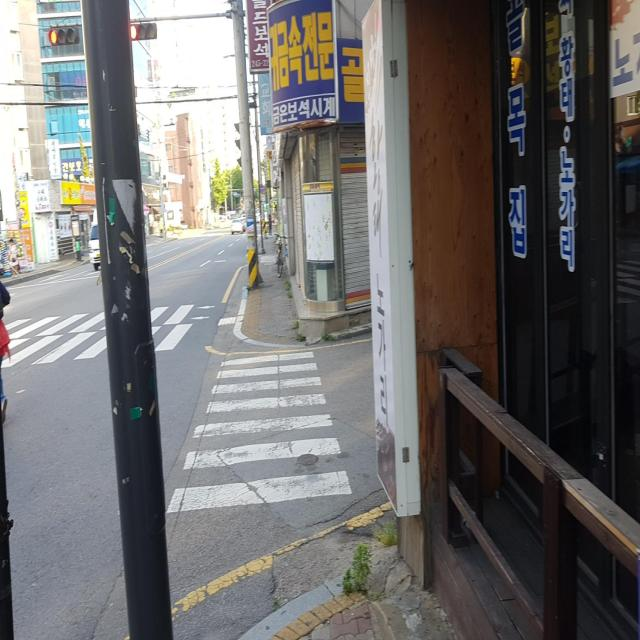횡단보도: (164, 347, 355, 519), (0, 302, 241, 368)
